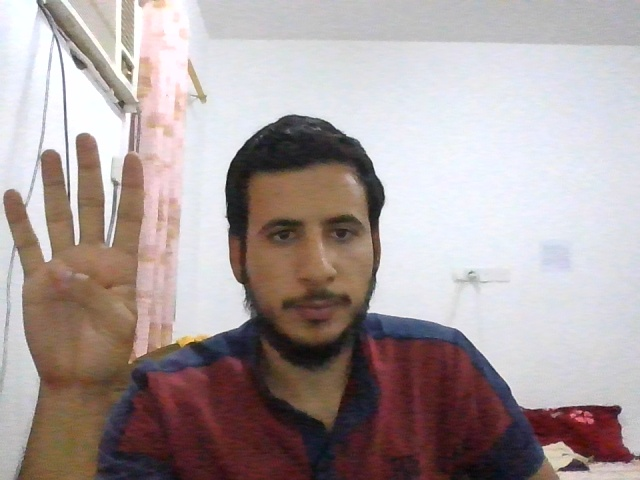Four: (3, 132, 145, 380)
